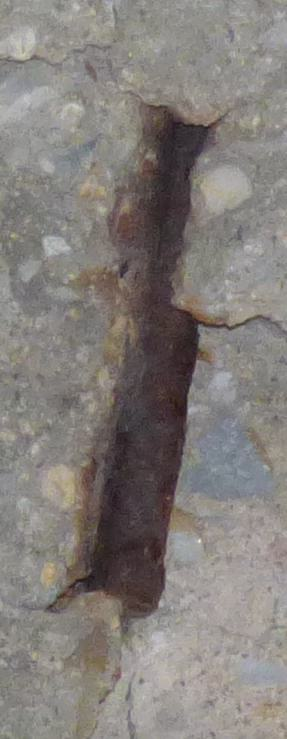Exposed reinforcement: (82, 111, 211, 613)
